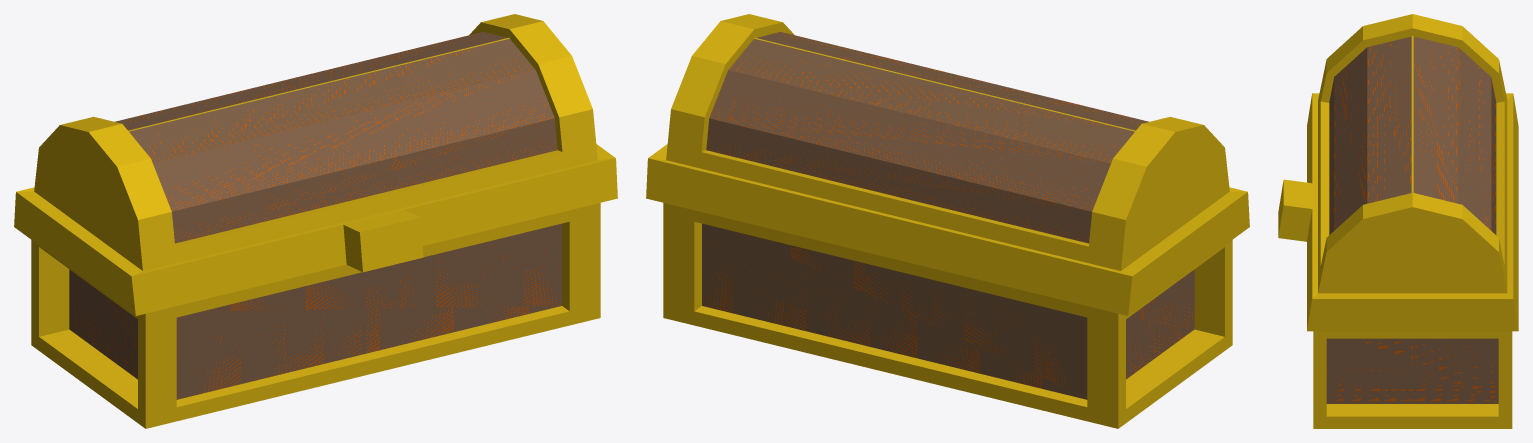
Rendered from chest.fbx.
The picture shows the model from 3 angles, left to right: view 1: azimuth 30°, elevation 25°; view 2: azimuth 150°, elevation 25°; view 3: azimuth 270°, elevation 25°; orthographic projection. The views are drawn at different scales.
Visible parts, largest first — view 1: Plane; view 2: Plane; view 3: Plane.
Part boxes in pixels (x1=…): Plane: x1=14, y1=14, x2=617, y2=428; Plane: x1=646, y1=14, x2=1249, y2=428; Plane: x1=1278, y1=14, x2=1518, y2=428.
Size of the model in its own units: 489 by 246 by 242.
1 material, 1 textured.
